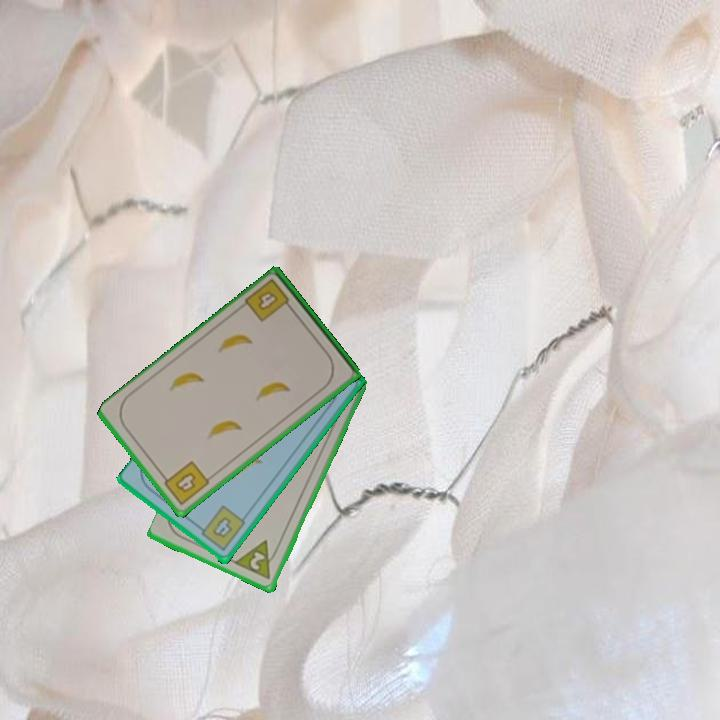2p: (232, 537, 282, 583)
4b: (194, 502, 248, 555), (158, 457, 212, 508), (241, 275, 296, 325)
